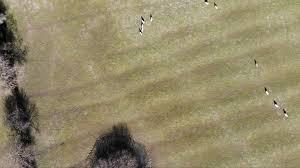sheep: (282, 110, 290, 119), (264, 88, 271, 97), (147, 14, 154, 22), (138, 22, 145, 29), (211, 3, 219, 9), (253, 60, 259, 68), (203, 1, 210, 7), (273, 101, 279, 108), (137, 30, 142, 36), (139, 18, 145, 23)
